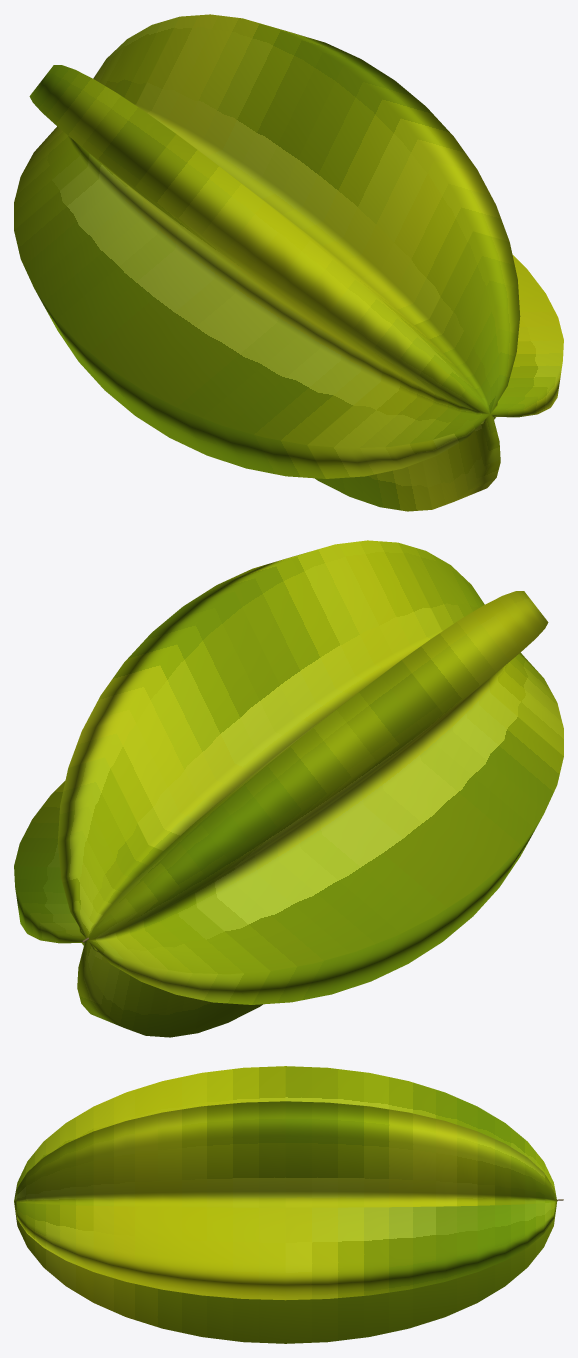
The model's file is Fruit.fbx.
The picture shows the model from 3 angles, top to bottom: view 1: azimuth 30°, elevation 25°; view 2: azimuth 150°, elevation 25°; view 3: azimuth 270°, elevation 25°; orthographic projection. The views are drawn at different scales.
Visible parts, largest first — view 1: fruit; view 2: fruit; view 3: fruit.
Boxes of the visible parts, x1=… form: fruit: x1=14, y1=14, x2=563, y2=511; fruit: x1=14, y1=540, x2=563, y2=1037; fruit: x1=14, y1=1066, x2=563, y2=1343.
Bounding box in the file's own units: 1.95 × 1.95 × 3.91.
Materials: 2 (1 with a texture image).
